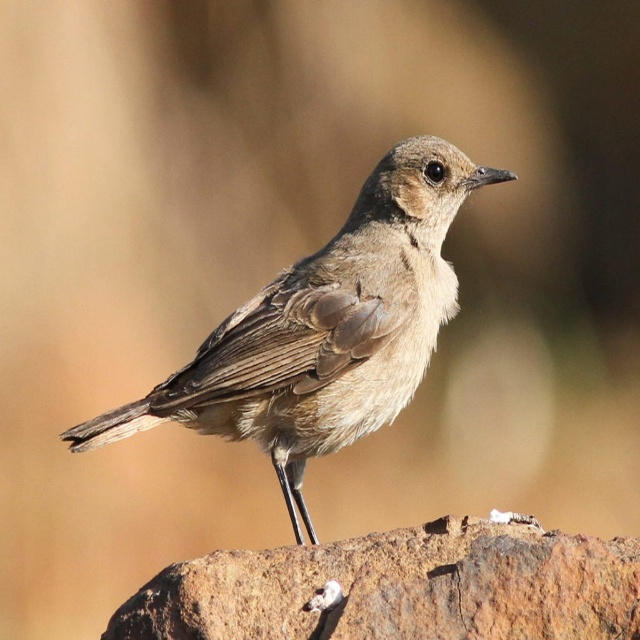Sparrow: (61, 130, 518, 547)
